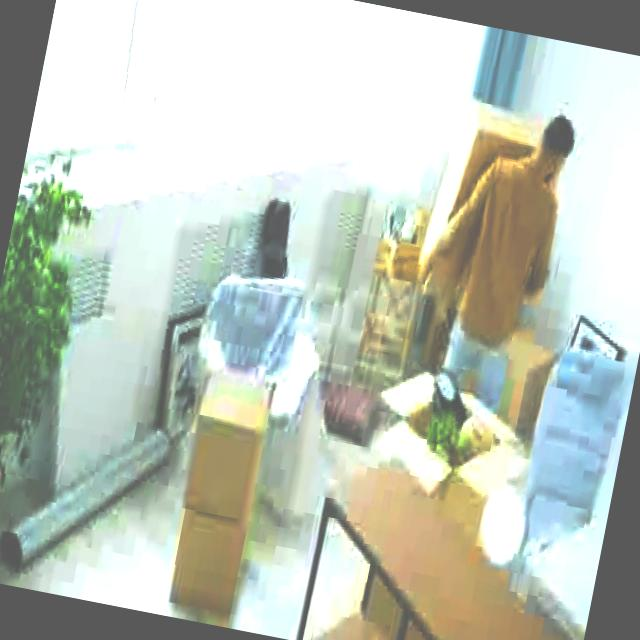Box: (180, 366, 278, 522), (166, 506, 252, 620)
